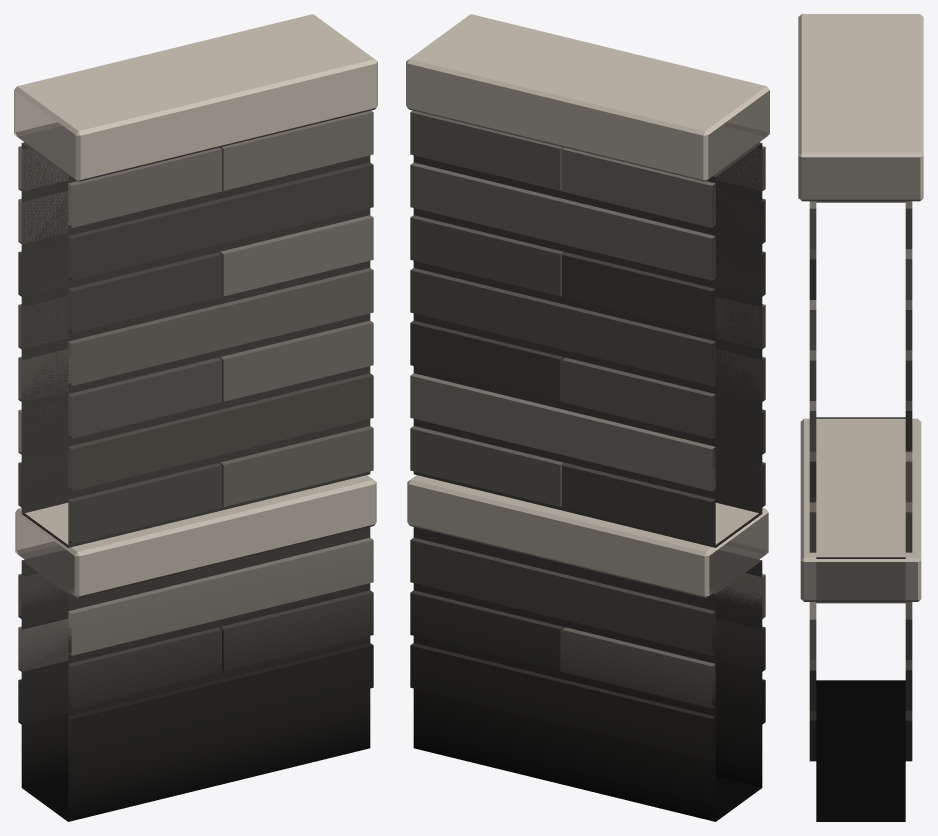
Rendered from SM_VKI_Wall_Mine_Plain_150A_Full.fbx.
3 renders of one model, left to right at view 1: azimuth 30°, elevation 25°; view 2: azimuth 150°, elevation 25°; view 3: azimuth 270°, elevation 25°, orthographic. The views are drawn at different scales.
Parts seen in each view (by area): view 1: SM_VKI_Wall_Mine_Plain_150A_Full.001; view 2: SM_VKI_Wall_Mine_Plain_150A_Full.001; view 3: SM_VKI_Wall_Mine_Plain_150A_Full.001.
Boxes of the visible parts, x1,y1,x2,y2 form: SM_VKI_Wall_Mine_Plain_150A_Full.001: (14,14,377,821); SM_VKI_Wall_Mine_Plain_150A_Full.001: (406,14,769,821); SM_VKI_Wall_Mine_Plain_150A_Full.001: (798,14,923,821).
Size of the model in its own units: 1.5 by 3.3 by 0.56.
